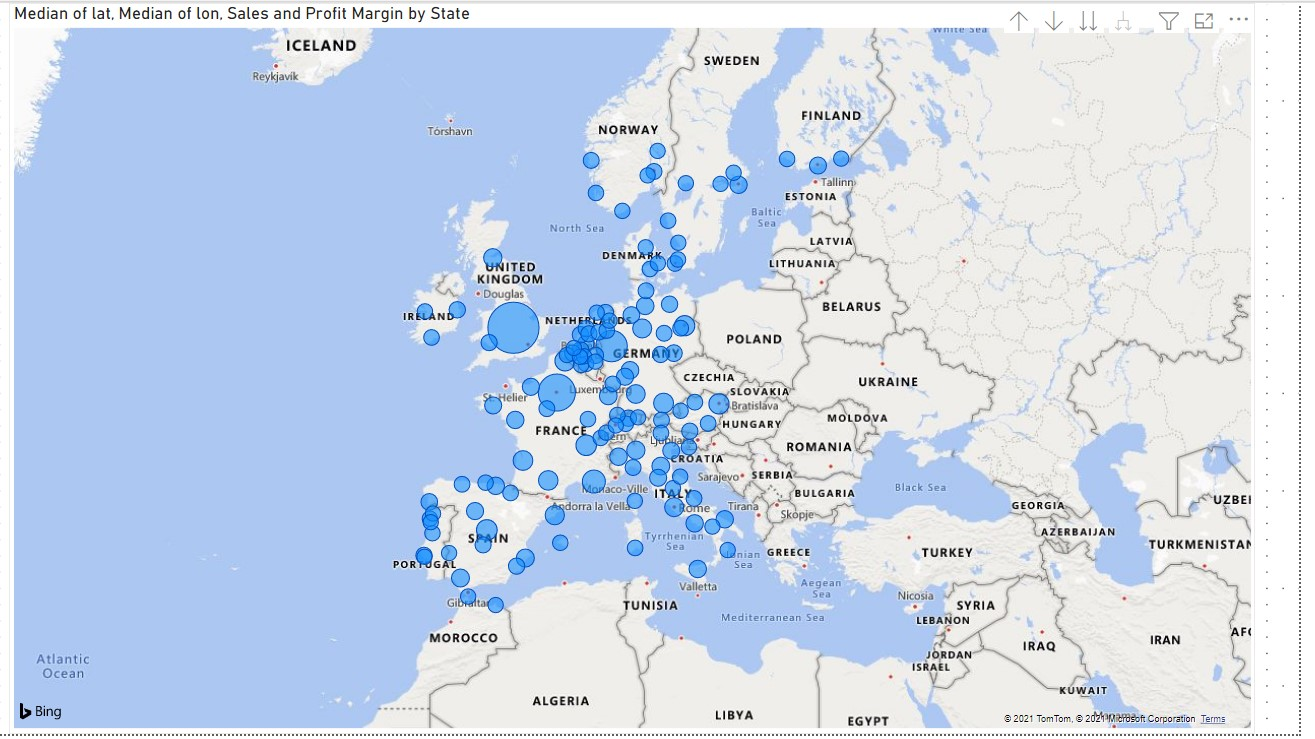

The page's visual inventory and layout, read from the dashboard file:
{"tool":"powerbi","page":{"name":"Page 1","canvas":[1280,720],"ordinal":0},"visuals":[{"type":"map","fields":{"Category":["ListOfOrders.Geography.Country","ListOfOrders.Geography.State","ListOfOrders.Geography.City"],"Y":["Median(ListOfOrders.lat)"],"X":["Median(ListOfOrders.lon)"],"Size":["Sum(OrderBreakdown.Sales)"]},"box":[9.6,0,1227.8,719.7],"z":0}]}

Visuals, with their boxes in screenshot pixels (x1, y1, x2, y2), scaled from the page's 1280x720 canvas onto the 1315x739 screenshot:
map - ListOfOrders.Geography.Country x ListOfOrders.Geography.State: Rect(10, 0, 1271, 738)
